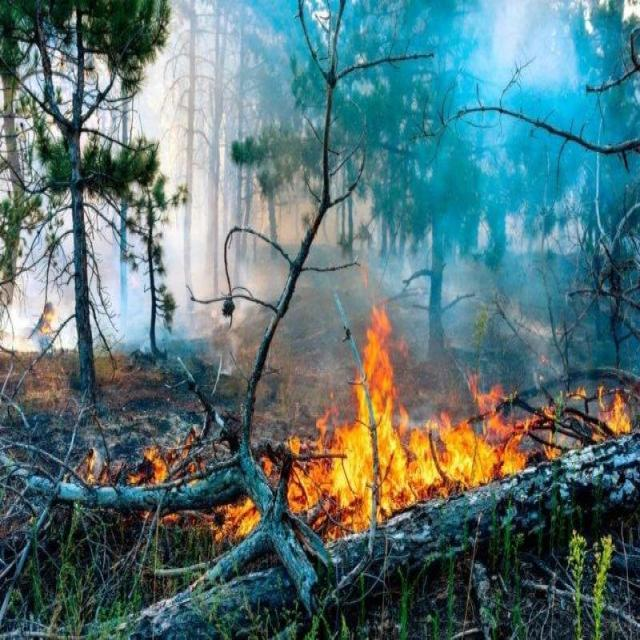Fire: (250, 267, 518, 544), (80, 420, 269, 534), (528, 359, 631, 462)
Smoke: (442, 7, 625, 391)
